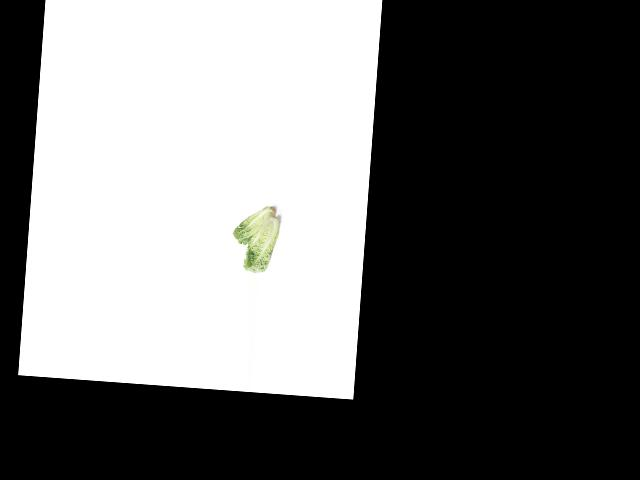lettuce: (231, 200, 277, 247)
